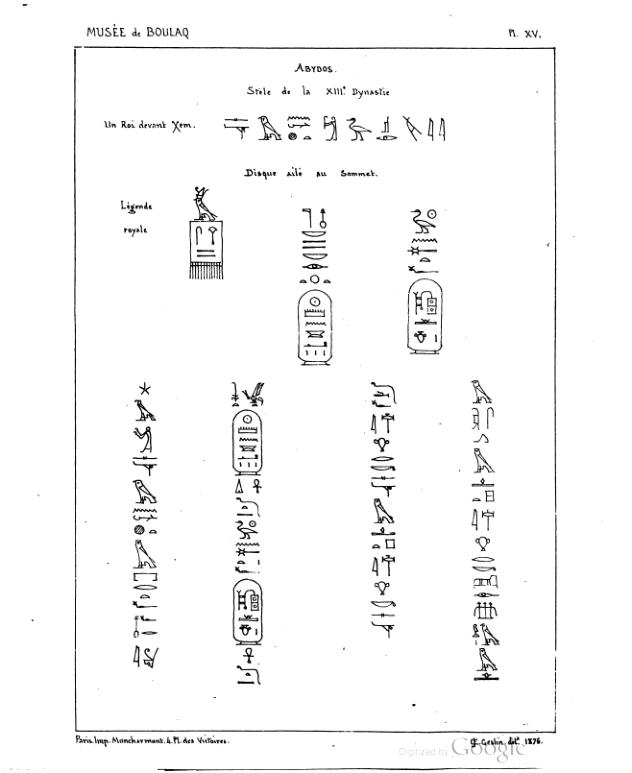circle: (293, 286, 340, 371), (405, 274, 449, 359), (230, 577, 267, 647), (229, 409, 264, 476)
